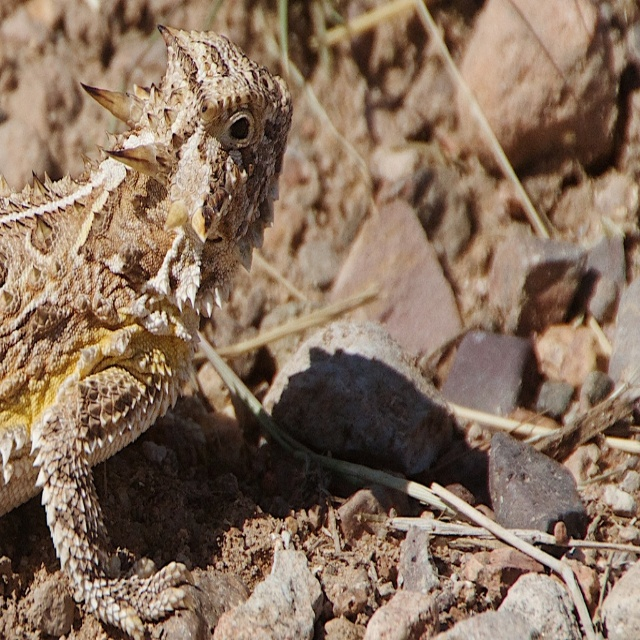Lizard: (0, 27, 294, 639)
